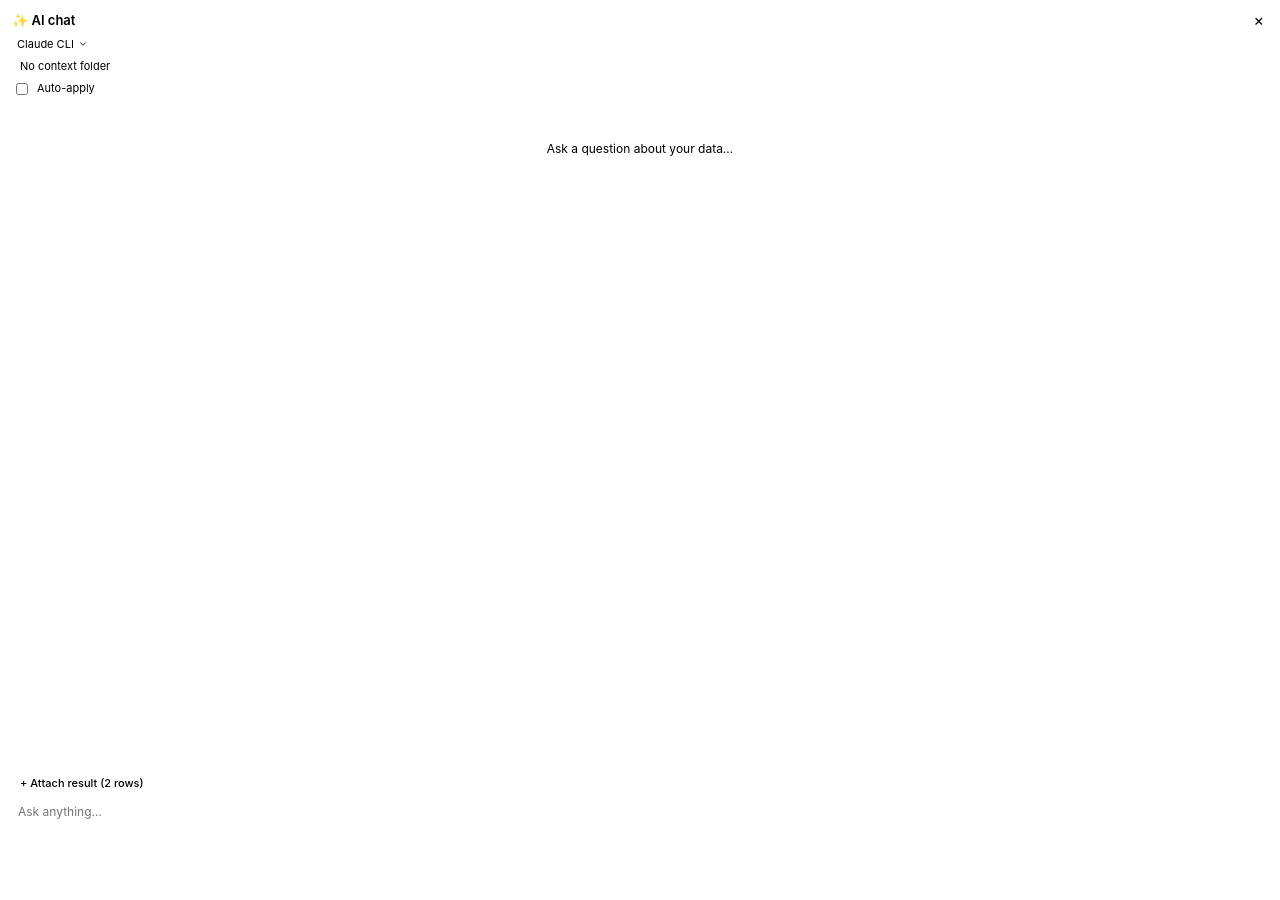
ChatPanel — attachment UI › clicking remove button removes the chip
The image size is (1280, 900).
Click the button with test id "btn-attach-result" at (82, 783), box [10,775,154,791]
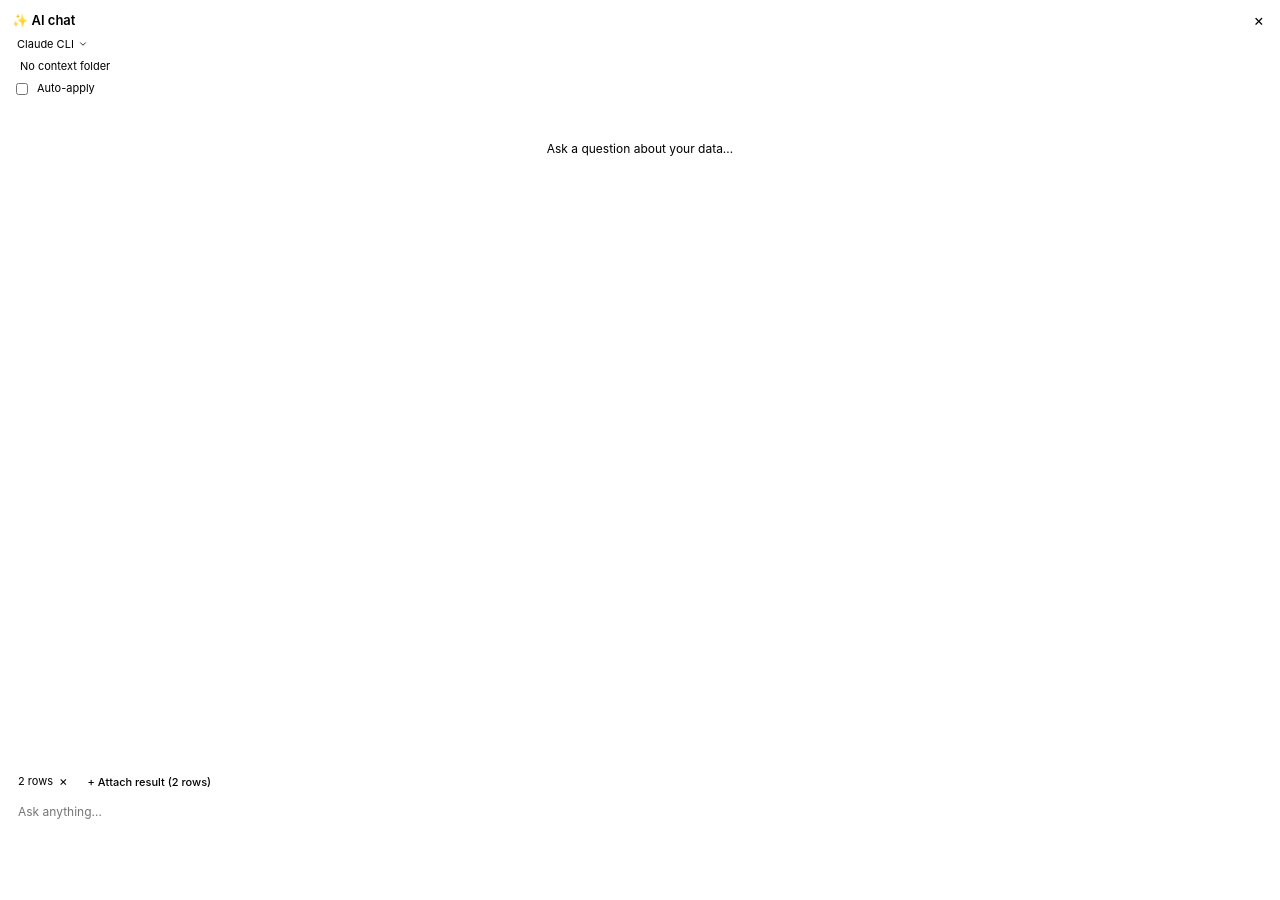
Result: the element with test id "attachment-chip" is shown at [18,774,70,788]
Click the button with test id "attachment-remove" at (63, 782), box [57,775,70,788]
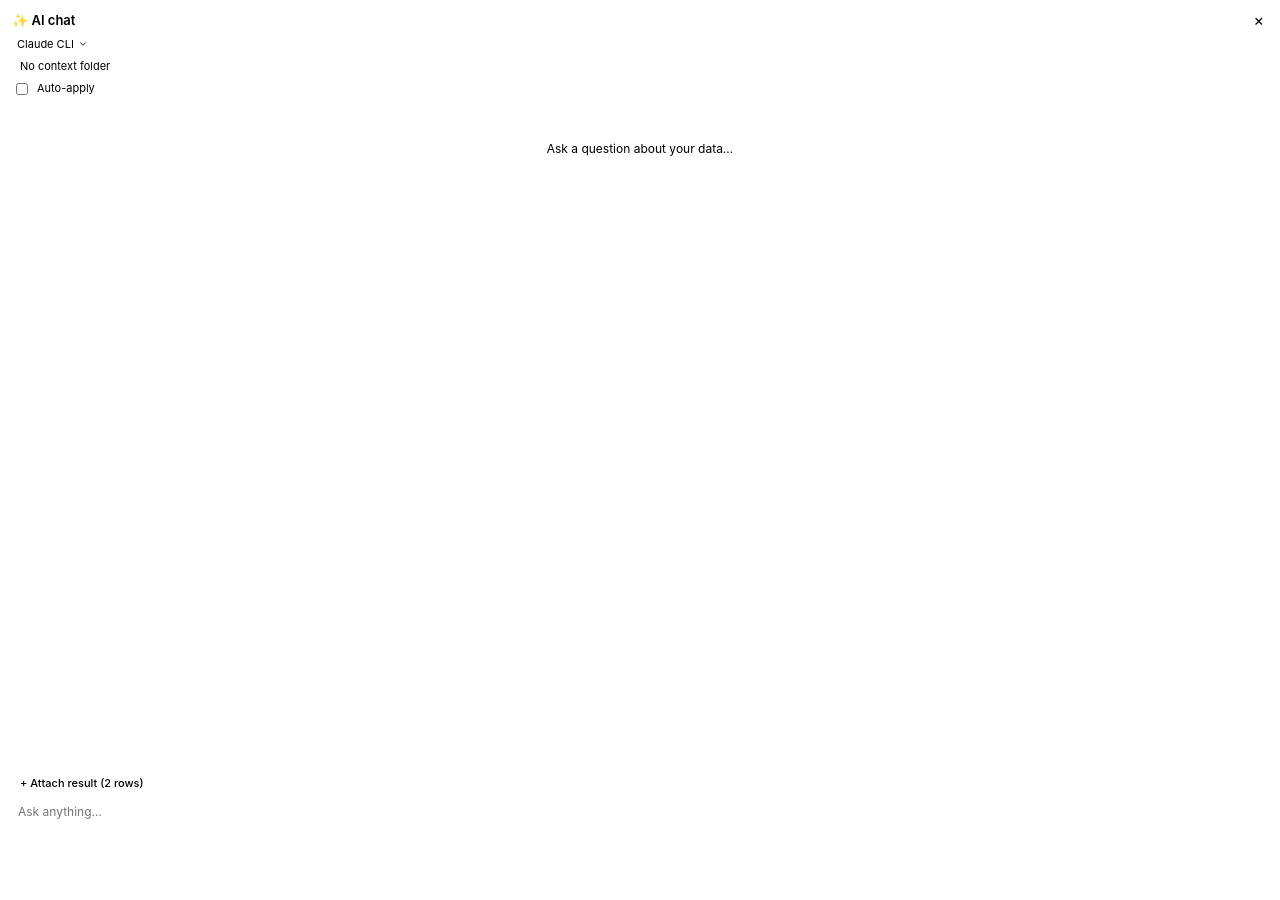
Result: the element with test id "attachment-chip" is gone
